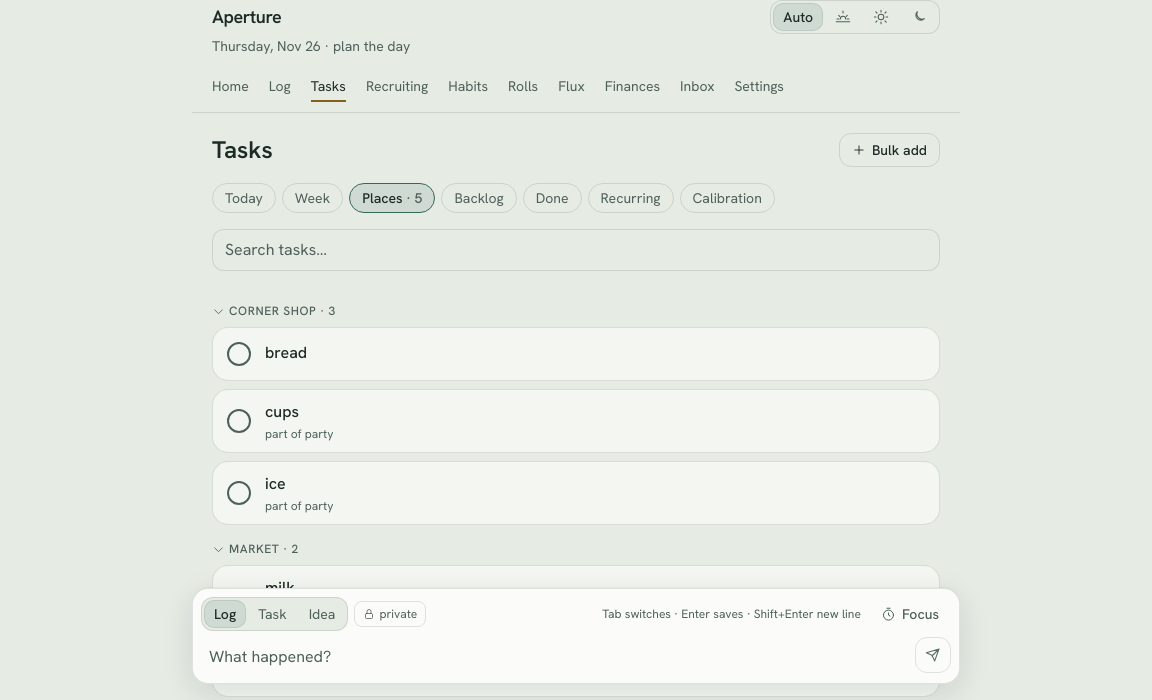
it: Places lens › an errand’s parts are its rows, each a one-tap check — the counts are the digest’s items
Expected: the button "Places · 5" is shown, [349, 183, 435, 213]
Expected: the button "Corner Shop · 3" is shown, [212, 303, 336, 319]
Click the button named "Check off cups" at (239, 421), box [217, 399, 261, 443]
(page scrolled)
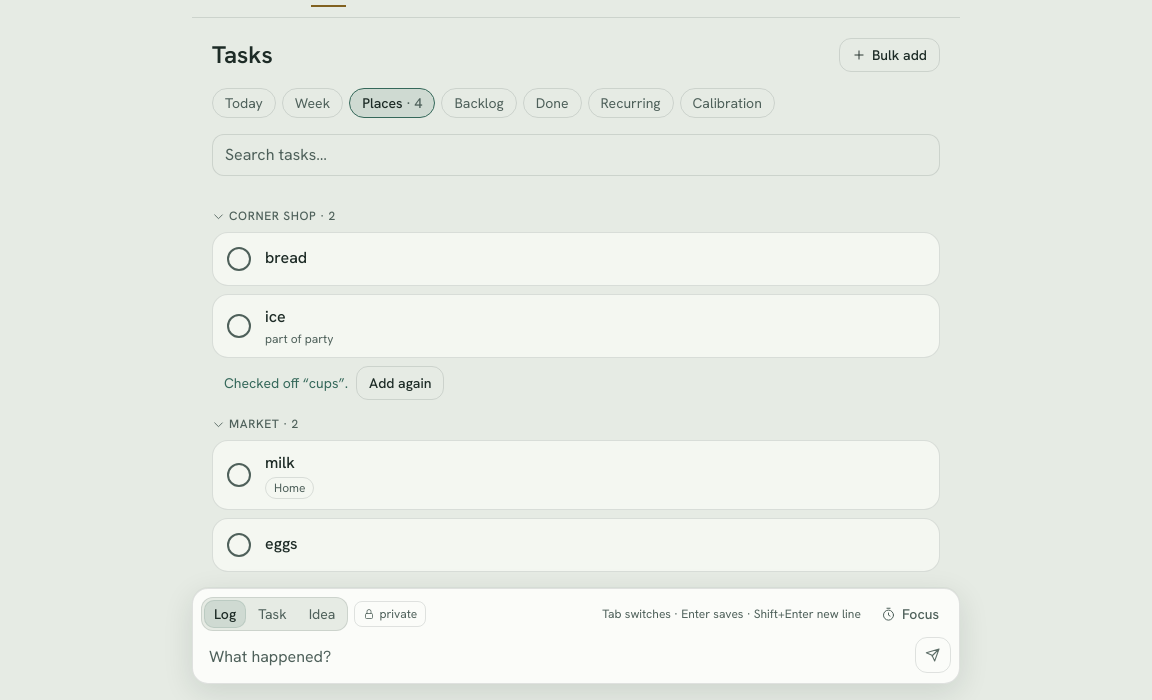
Now the text "Checked off “cups”." is shown, box [224, 373, 348, 393]
Click the button named "Check off ice" at (239, 326), box [217, 304, 261, 348]
(page scrolled)
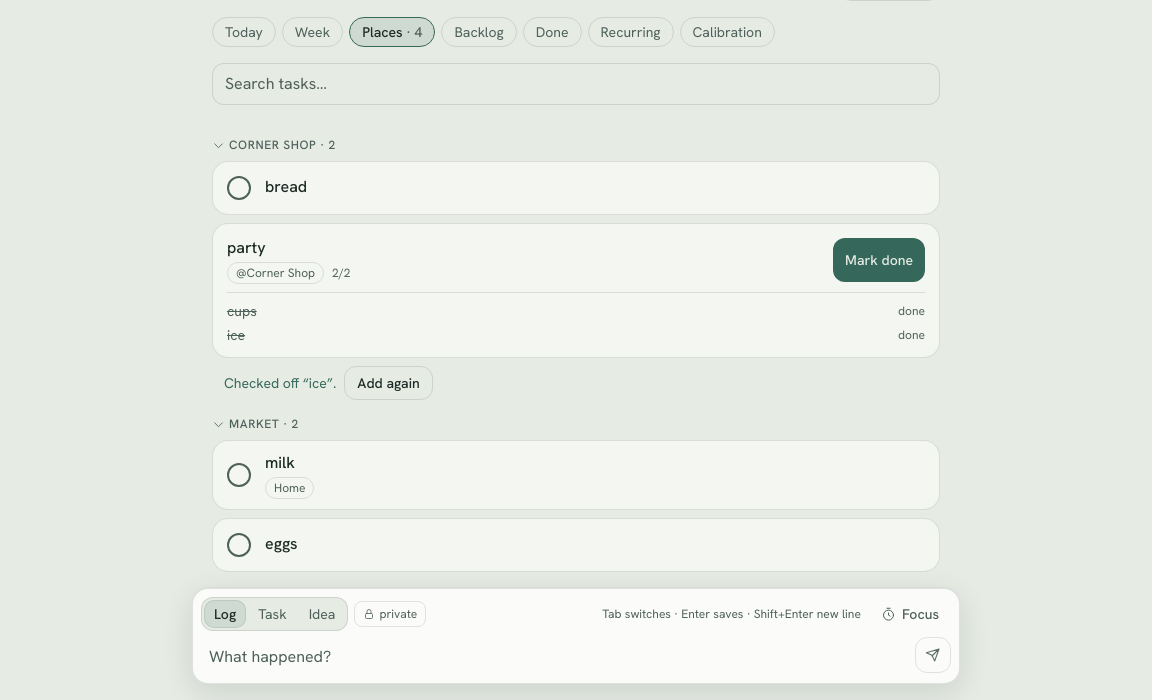
Now the text "Checked off “ice”." is shown, box [224, 373, 336, 393]
Click the button "Mark done" at (879, 260), box [833, 238, 925, 282]
(page scrolled)
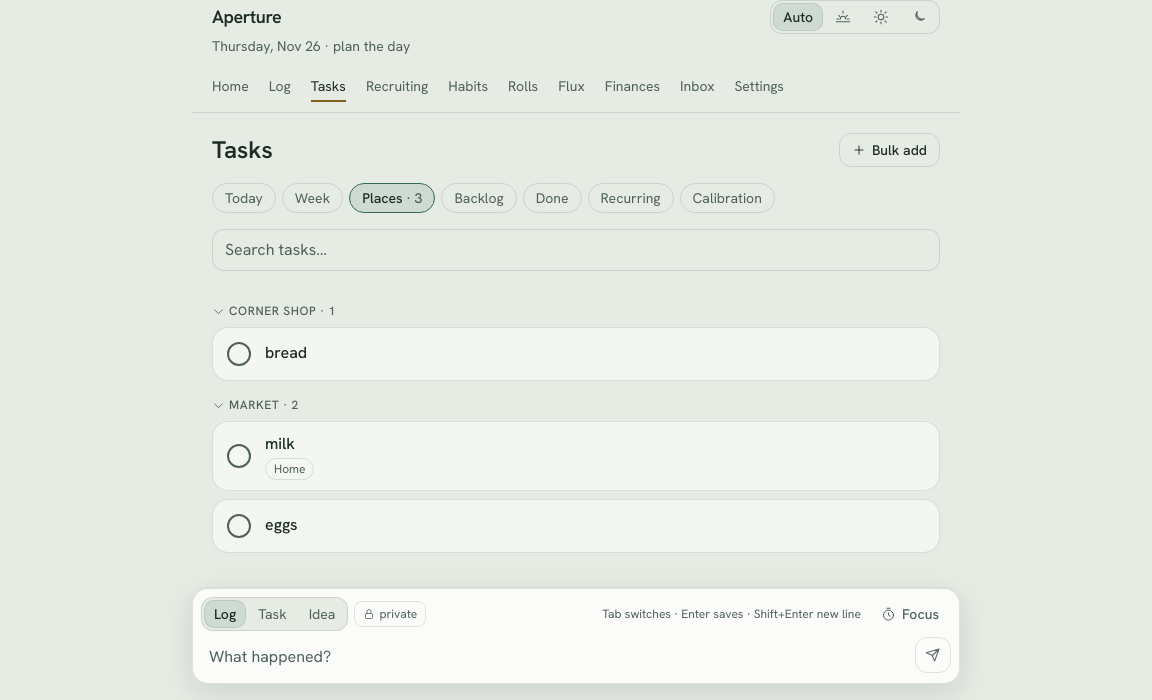
Now the text "Checked off “ice”." is gone
Now the button "Add again" is gone
